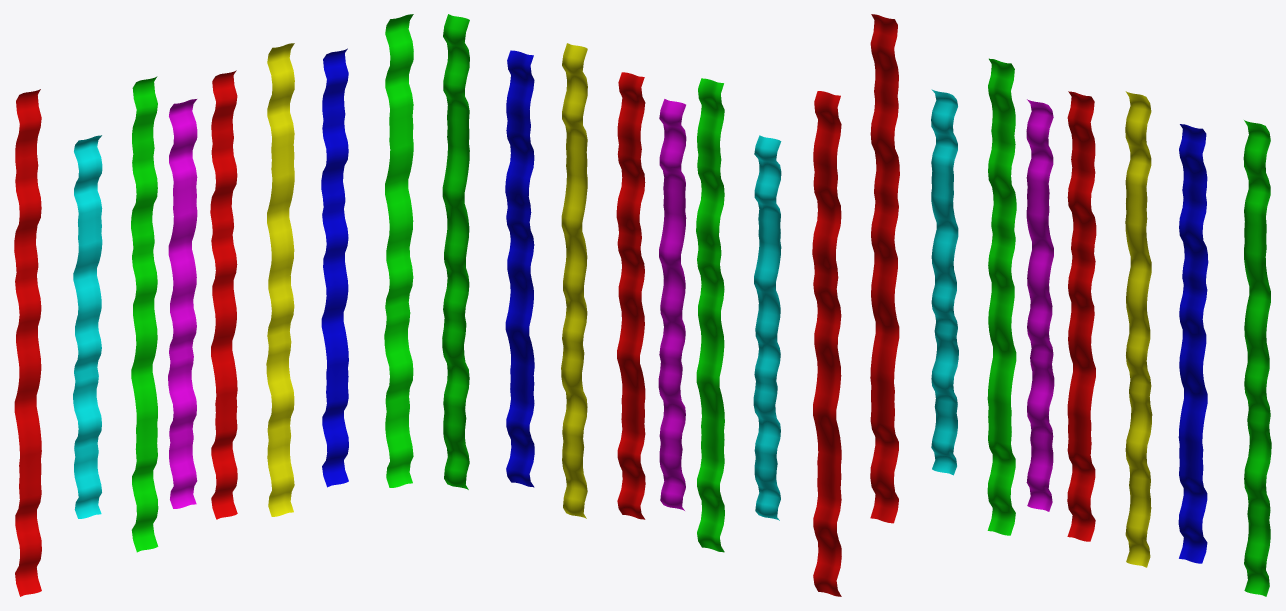
Rendered from streamers.fbx.
3 renders of one model, left to right at view 1: azimuth 30°, elevation 25°; view 2: azimuth 150°, elevation 25°; view 3: azimuth 330°, elevation 25°, orthographic.
Parts seen in each view (by area): view 1: pPlane2, pPlane3, pPlane4, pPlane7, pPlane6, pPlane1, pPlane5, pPlane8; view 2: pPlane3, pPlane7, pPlane2, pPlane1, pPlane5, pPlane4, pPlane6, pPlane8; view 3: pPlane3, pPlane7, pPlane2, pPlane1, pPlane5, pPlane4, pPlane6, pPlane8.
Boxes of the visible parts, box(x1,y1,x2,y2) form: pPlane2: box(384, 14, 413, 487); pPlane3: box(14, 89, 41, 596); pPlane4: box(266, 43, 294, 516); pPlane7: box(131, 76, 158, 552); pPlane6: box(168, 99, 197, 508); pPlane1: box(210, 70, 237, 519); pPlane5: box(321, 48, 348, 487); pPlane8: box(73, 135, 102, 518); pPlane3: box(812, 91, 841, 596); pPlane7: box(696, 78, 724, 552); pPlane2: box(442, 14, 469, 489); pPlane1: box(616, 72, 645, 519); pPlane5: box(505, 50, 534, 487); pPlane4: box(561, 43, 587, 518); pPlane6: box(658, 99, 686, 510); pPlane8: box(753, 135, 781, 520); pPlane3: box(870, 14, 899, 523); pPlane7: box(987, 58, 1016, 535); pPlane2: box(1243, 120, 1271, 596); pPlane1: box(1067, 91, 1096, 541); pPlane5: box(1178, 124, 1208, 563); pPlane4: box(1125, 91, 1152, 567); pPlane6: box(1026, 99, 1054, 511); pPlane8: box(931, 89, 958, 475).
Size of the model in its own units: 7.73 by 9.41 by 0.2361.
